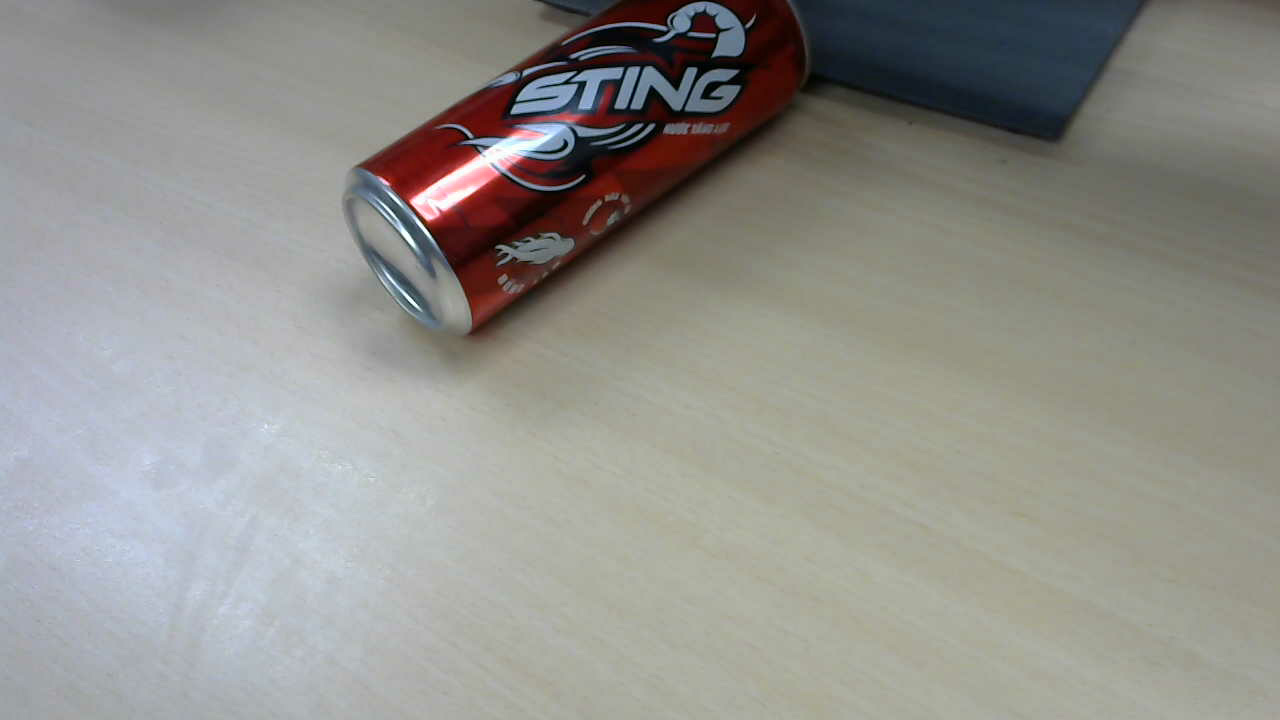Sting: (346, 5, 817, 346)
